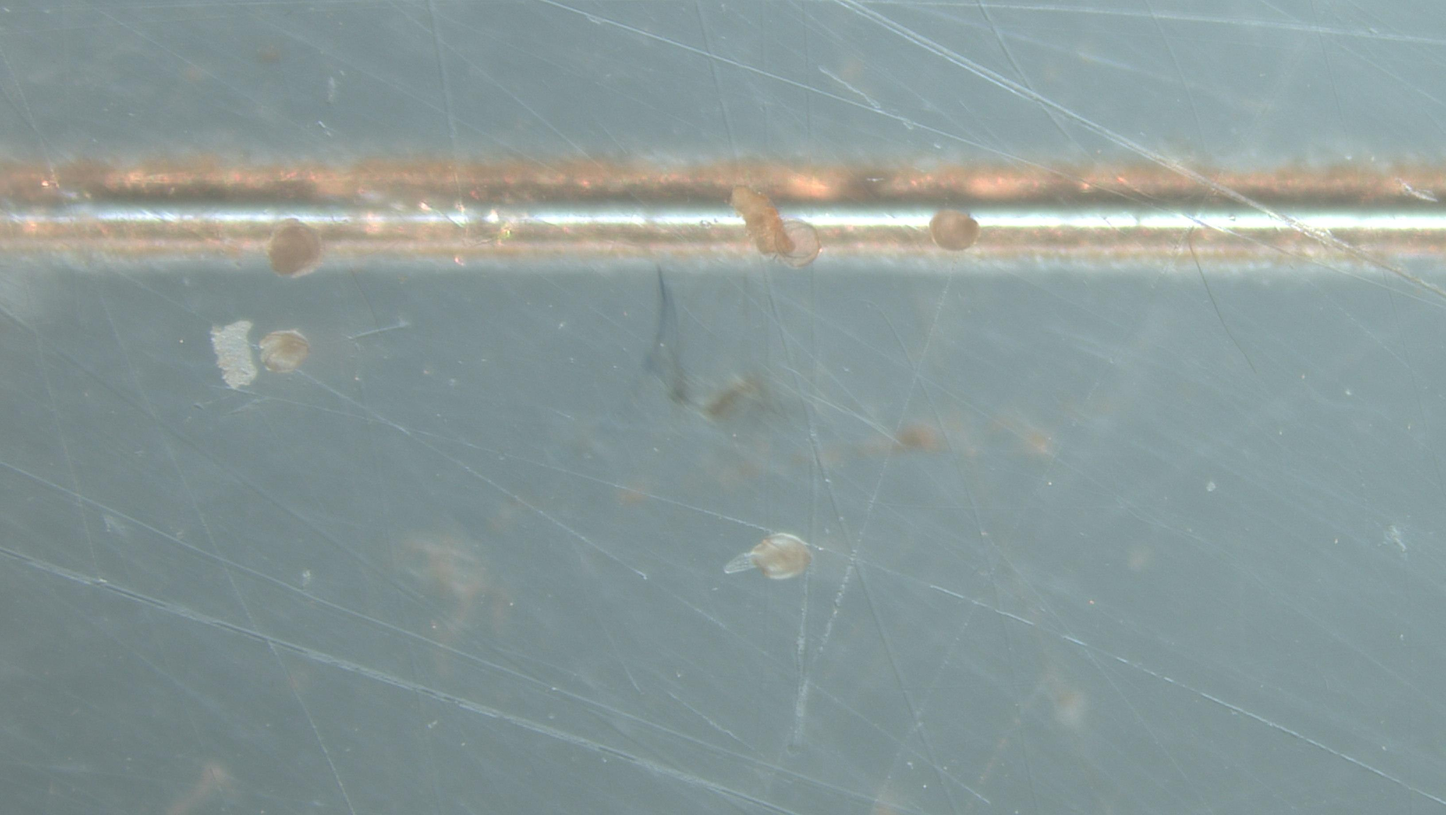live: (724, 533, 812, 579), (268, 219, 323, 277), (259, 330, 309, 373), (929, 210, 980, 251), (781, 219, 822, 268)
